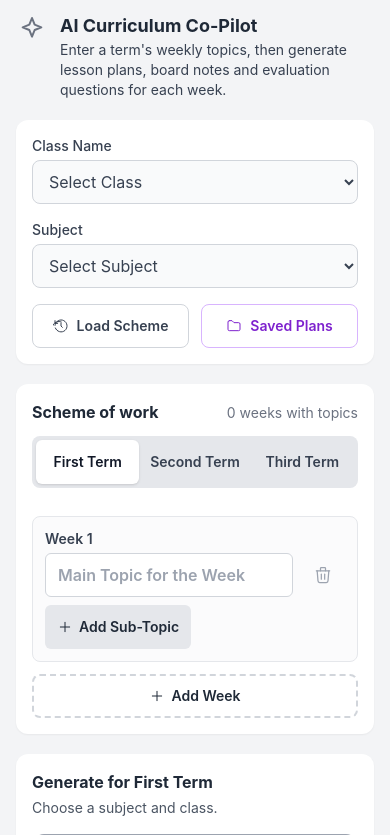
Test: LessonPlannerScreen › leaving the screen stops a running generation from saving
The width and height of the screenshot is (390, 835).
Select "SSS 1 A" in the dropdown labelled "Class Name" at [195, 182], box [32, 160, 358, 204]
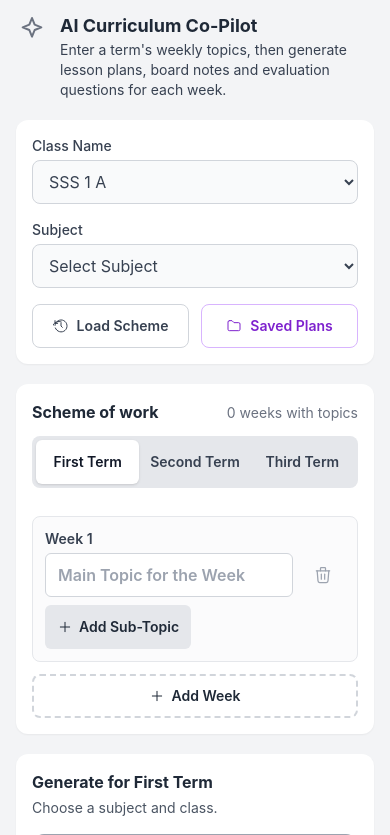
Select "Mathematics" in the dropdown labelled "Subject" at [195, 266], box [32, 244, 358, 288]
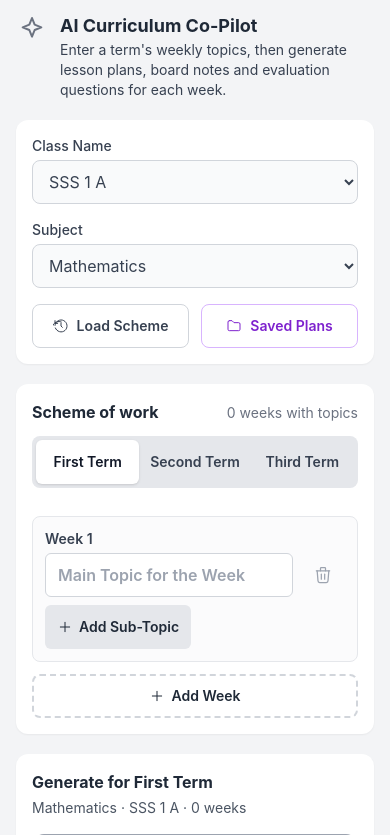
Type "Number bases" into the field with placeholder "Main Topic for the Week" at [169, 575], box [45, 553, 293, 597]
(page scrolled)
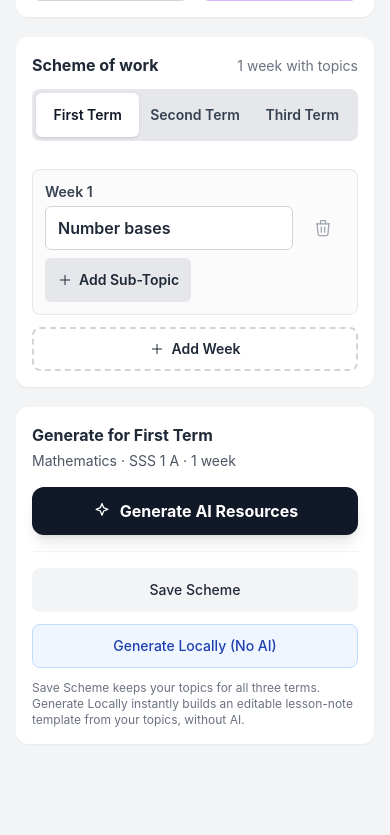
Expected: the button "Generate AI Resources" is enabled
Click the button "Generate AI Resources" at [195, 511], box [32, 487, 358, 535]
(page scrolled)
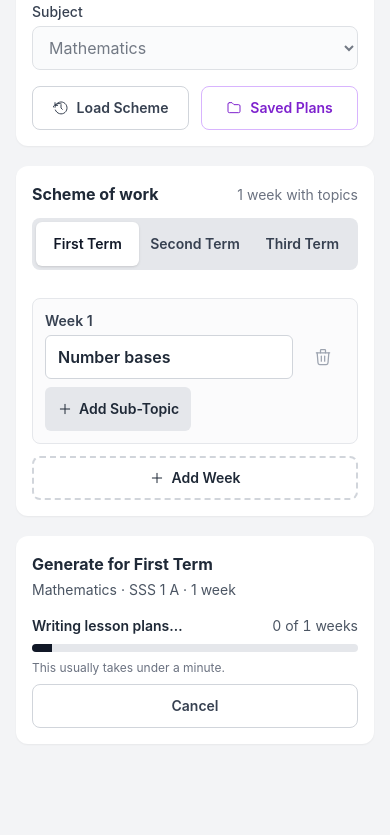
Expected: the button "Cancel" is shown, [32, 684, 358, 728]
